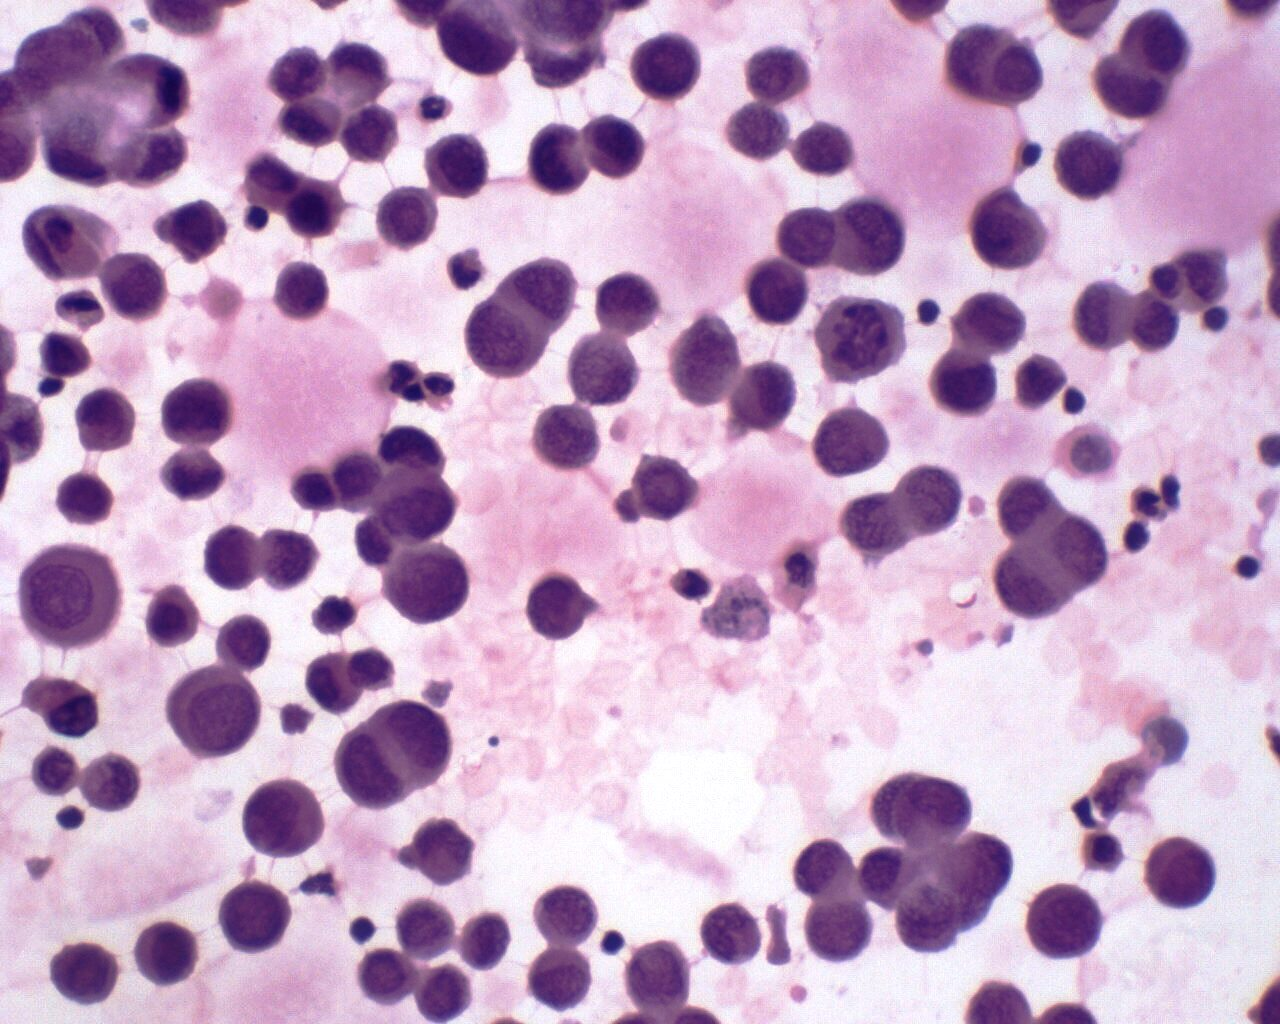ab: (328, 697, 455, 810), (167, 665, 260, 765), (239, 777, 329, 863), (383, 543, 473, 624), (373, 467, 463, 546), (464, 296, 548, 379), (1026, 877, 1107, 963), (970, 185, 1047, 272), (627, 449, 705, 529), (1143, 835, 1219, 915), (1050, 127, 1127, 205), (1117, 8, 1200, 79), (571, 328, 644, 404), (219, 880, 294, 954), (629, 26, 700, 102), (159, 377, 237, 445), (98, 252, 172, 323), (802, 898, 878, 965), (931, 347, 1000, 418), (372, 179, 439, 251), (135, 920, 200, 992), (51, 936, 118, 1005), (523, 572, 589, 641), (427, 132, 492, 201), (528, 947, 595, 1013), (578, 115, 644, 181), (746, 259, 808, 324), (354, 947, 418, 1007), (458, 909, 515, 967), (218, 610, 275, 669)
lymph: (1227, 545, 1270, 590), (1058, 385, 1097, 420), (912, 293, 944, 329)
neutro: (418, 88, 456, 127)
